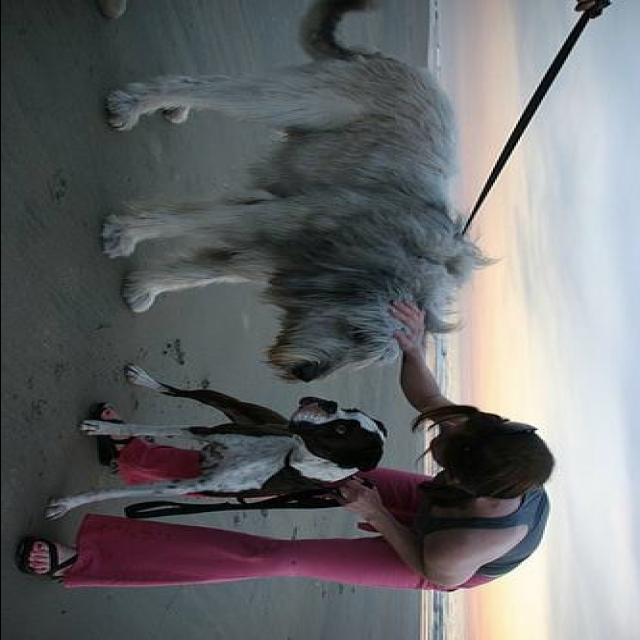irish_wolfhound: (104, 0, 502, 378)
